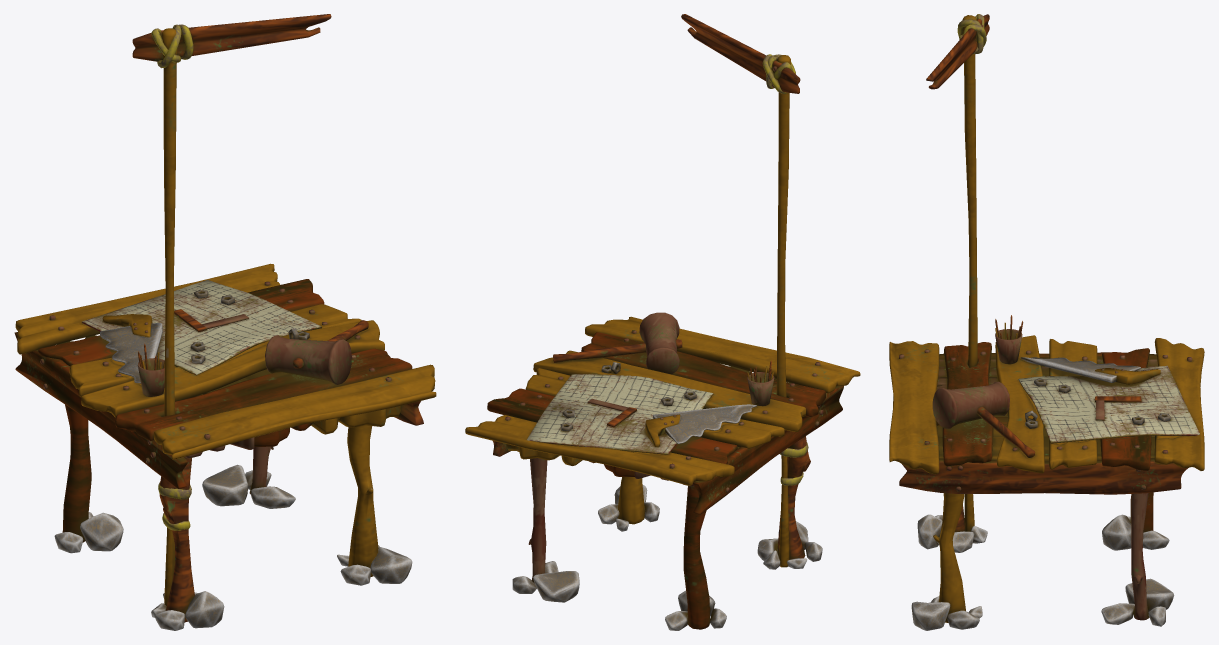
File: Workbench.fbx
The picture shows the model from 3 angles, left to right: view 1: azimuth 30°, elevation 25°; view 2: azimuth 150°, elevation 25°; view 3: azimuth 270°, elevation 25°; orthographic projection. The views are drawn at different scales.
Visible parts, largest first — view 1: WorkbenchL; view 2: WorkbenchL; view 3: WorkbenchL.
Boxes of the visible parts, bbox=[...] form: WorkbenchL: bbox=[14, 14, 436, 630]; WorkbenchL: bbox=[465, 14, 860, 630]; WorkbenchL: bbox=[889, 14, 1204, 630].
Bounding box in the file's own units: 115 × 216 × 118.
